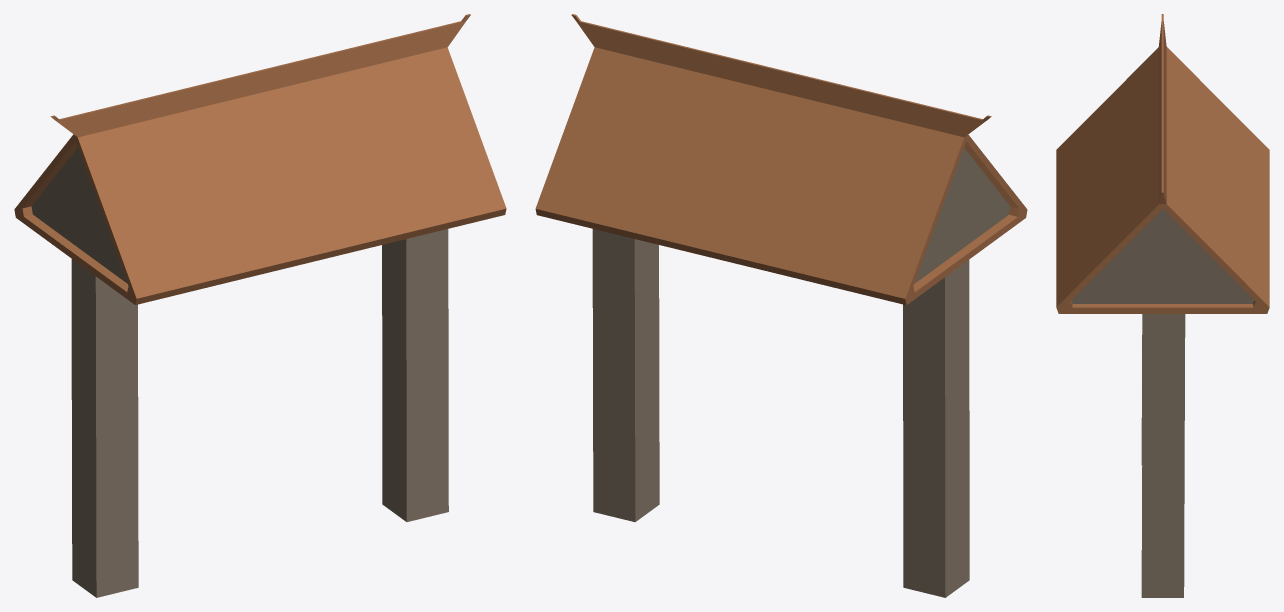
Rendered from Arch_2.fbx.
The picture shows the model from 3 angles, left to right: view 1: azimuth 30°, elevation 25°; view 2: azimuth 150°, elevation 25°; view 3: azimuth 270°, elevation 25°; orthographic projection. The views are drawn at different scales.
Visible parts, largest first — view 1: Arch_2; view 2: Arch_2; view 3: Arch_2.
Boxes of the visible parts, x1,y1,x2,y2 form: Arch_2: (14,14,506,597); Arch_2: (535,14,1027,597); Arch_2: (1056,14,1269,597).
Size of the model in its own units: 203 by 223 by 103.
